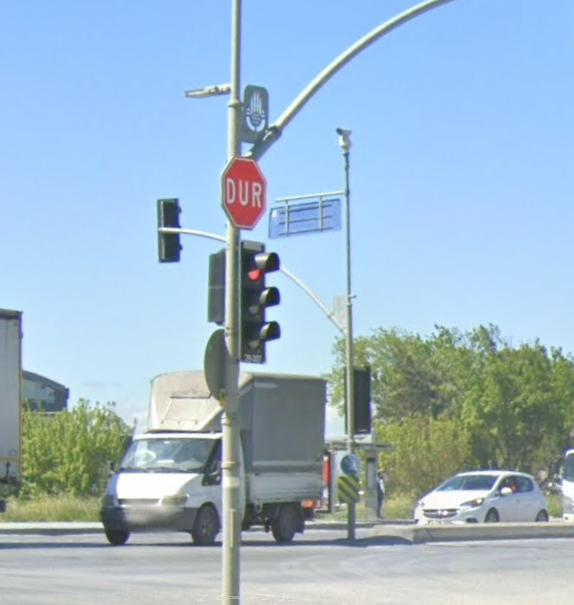redlight: (230, 237, 290, 365)
stop: (221, 154, 274, 230)
